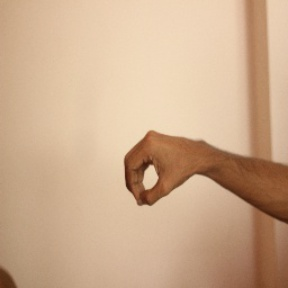O: (121, 126, 197, 209)
